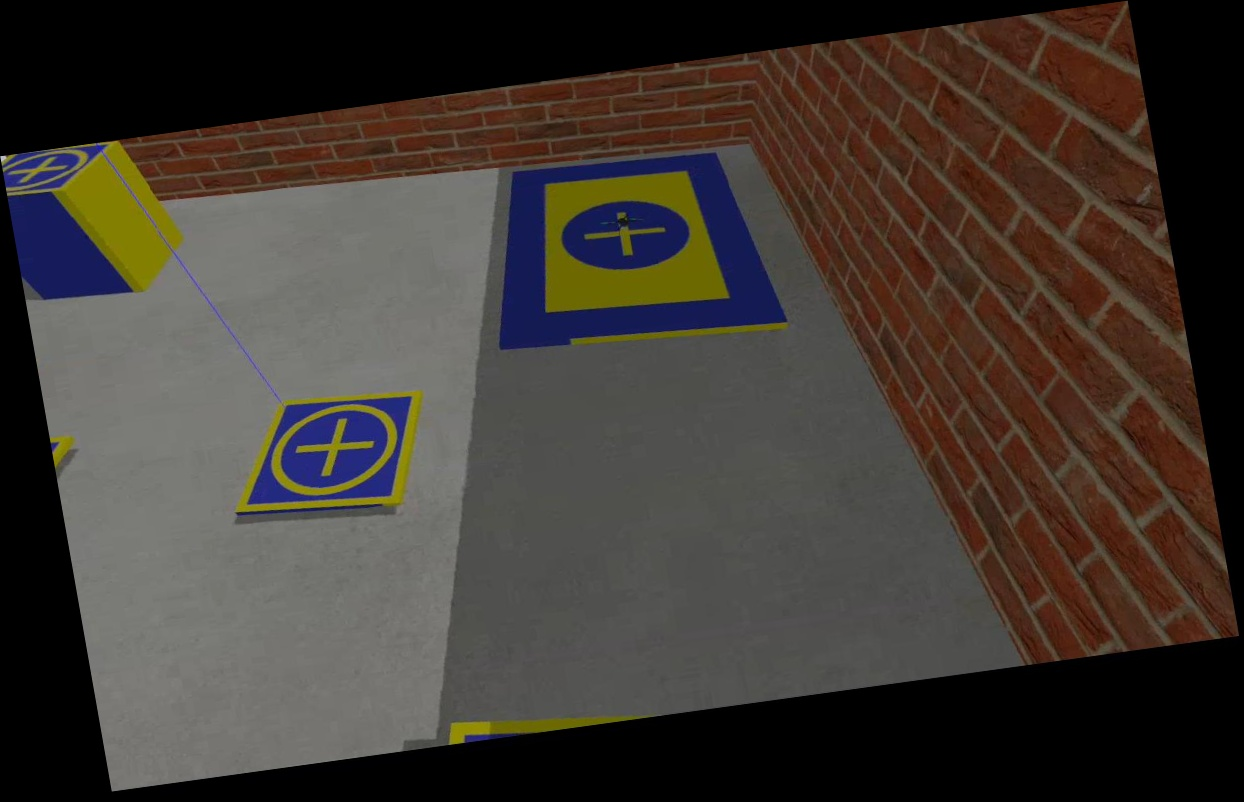large_base: (472, 133, 793, 367)
small_base: (216, 385, 447, 531), (0, 139, 128, 200)
